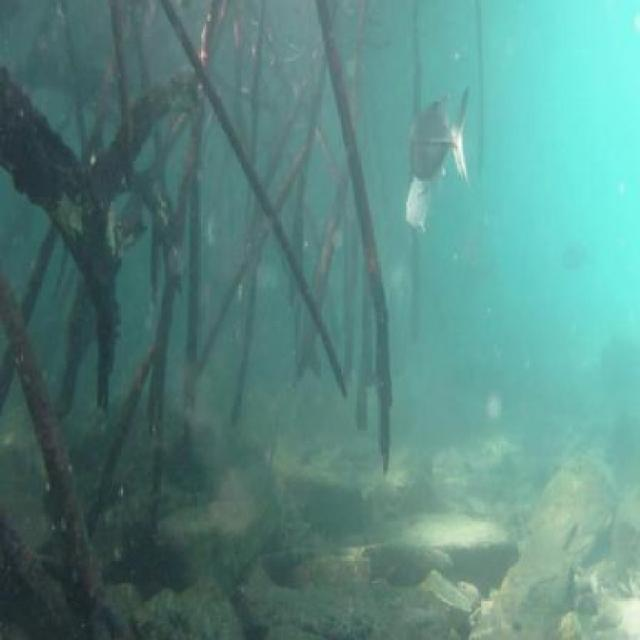Caranx_sexfasciatus_juvenile: (407, 92, 473, 192), (402, 170, 436, 242)
